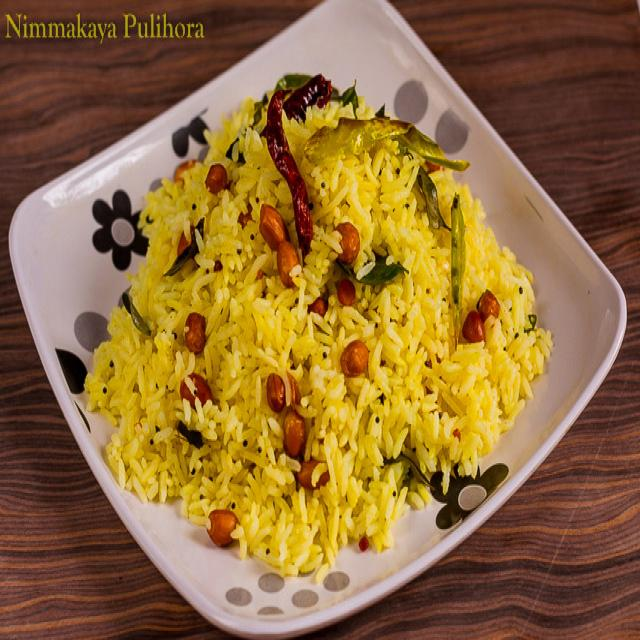puliyogare: (69, 47, 562, 599)
